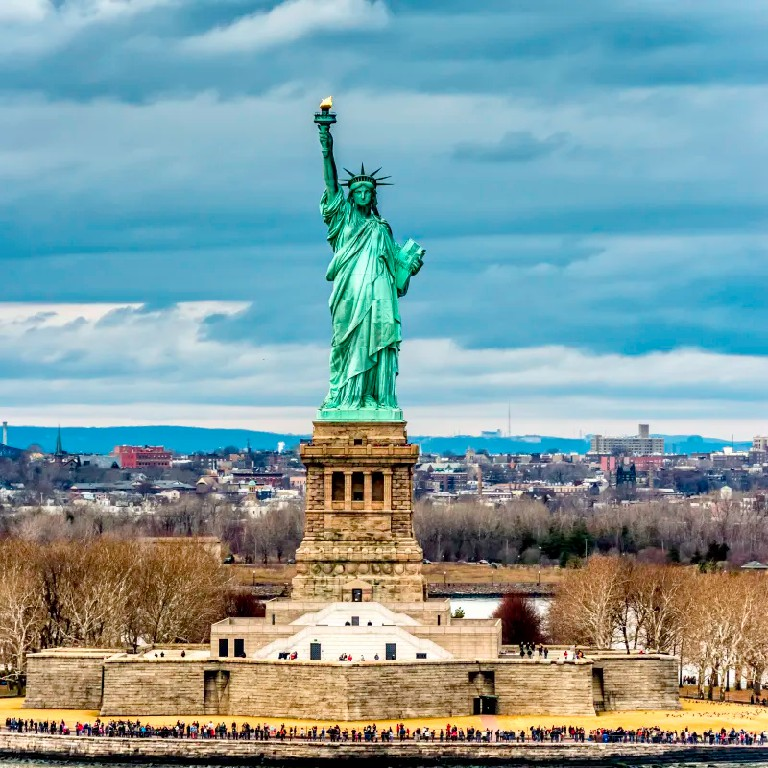SL: (290, 94, 425, 605)
